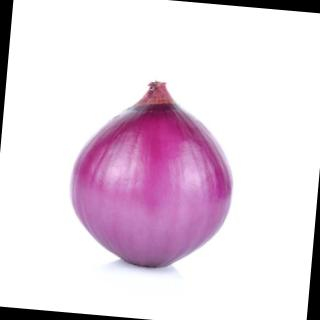Bawang Merah: (58, 70, 246, 279)
